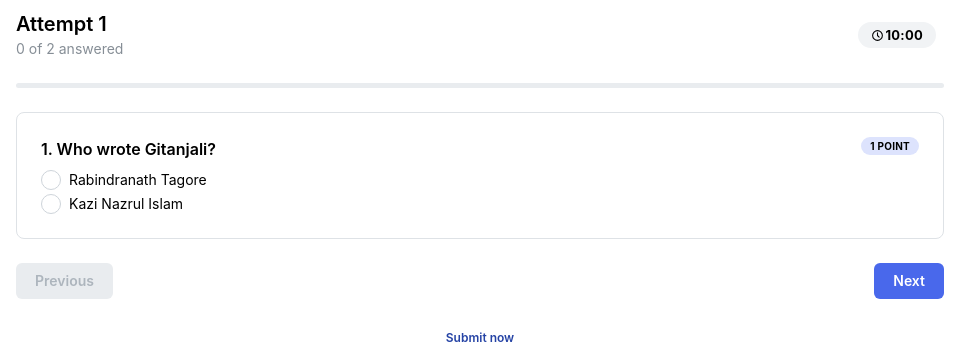
Scenario: QuizRunnerRoute › autosaves an answer in the shape the API documents
This screenshot has width=961, height=359.
Click the radio button labelled "Rabindranath Tagore". click: {"x": 51, "y": 180}
box: [41, 170, 61, 190]
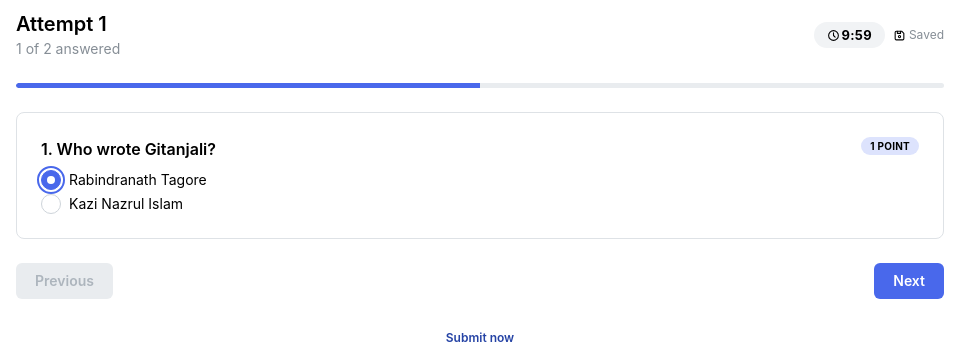
Check: the text "Saved" is shown, box [909, 27, 944, 44]
